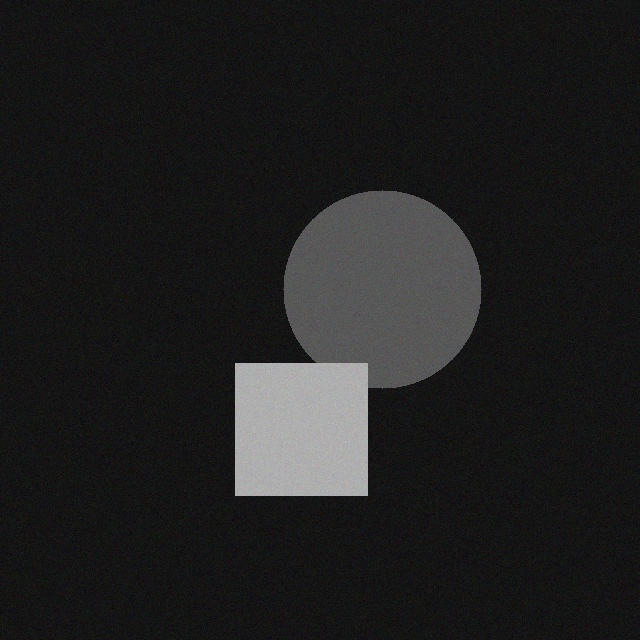circle: (295, 187, 493, 385)
square: (247, 360, 379, 492)
